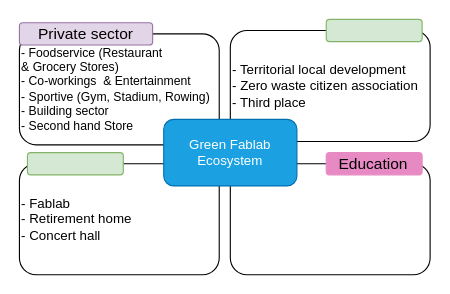
The diagram is 450 pixels wide and 294 high, and some of its shapes have lost their labels. Each missing label, with the box of its shape:
- Industrial and Materials engineering schools: (229, 163, 430, 275)
Associative: (325, 18, 422, 42)
Public sector: (26, 152, 123, 175)
